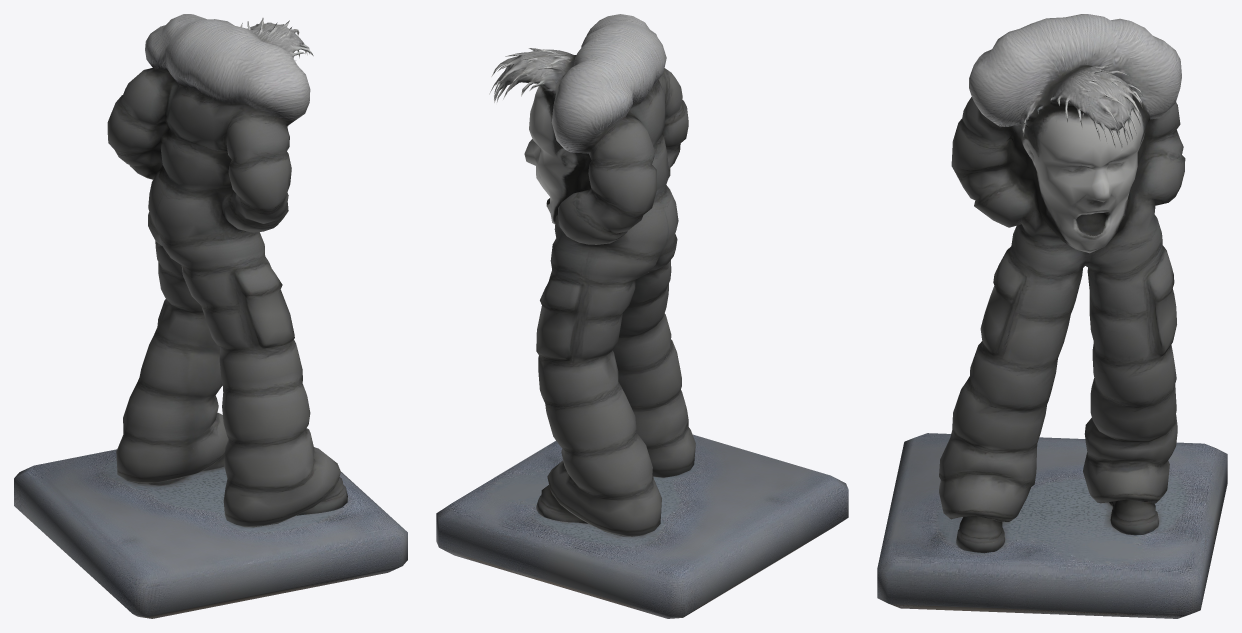
Rendered from statue-Tourist.glb.
3 views of the same model, side by side, from view 1: azimuth 30°, elevation 25°; view 2: azimuth 150°, elevation 25°; view 3: azimuth 270°, elevation 25° (orthographic). The views are drawn at different scales.
Visible parts, largest first — view 1: vizcom_node_0; view 2: vizcom_node_0; view 3: vizcom_node_0.
Part boxes in pixels (bbox=[...]): vizcom_node_0: bbox=[14, 14, 407, 618]; vizcom_node_0: bbox=[436, 14, 848, 618]; vizcom_node_0: bbox=[877, 14, 1227, 618].
Size of the model in its own units: 0.5007 by 0.85 by 0.5007.
1 material, 1 textured.
